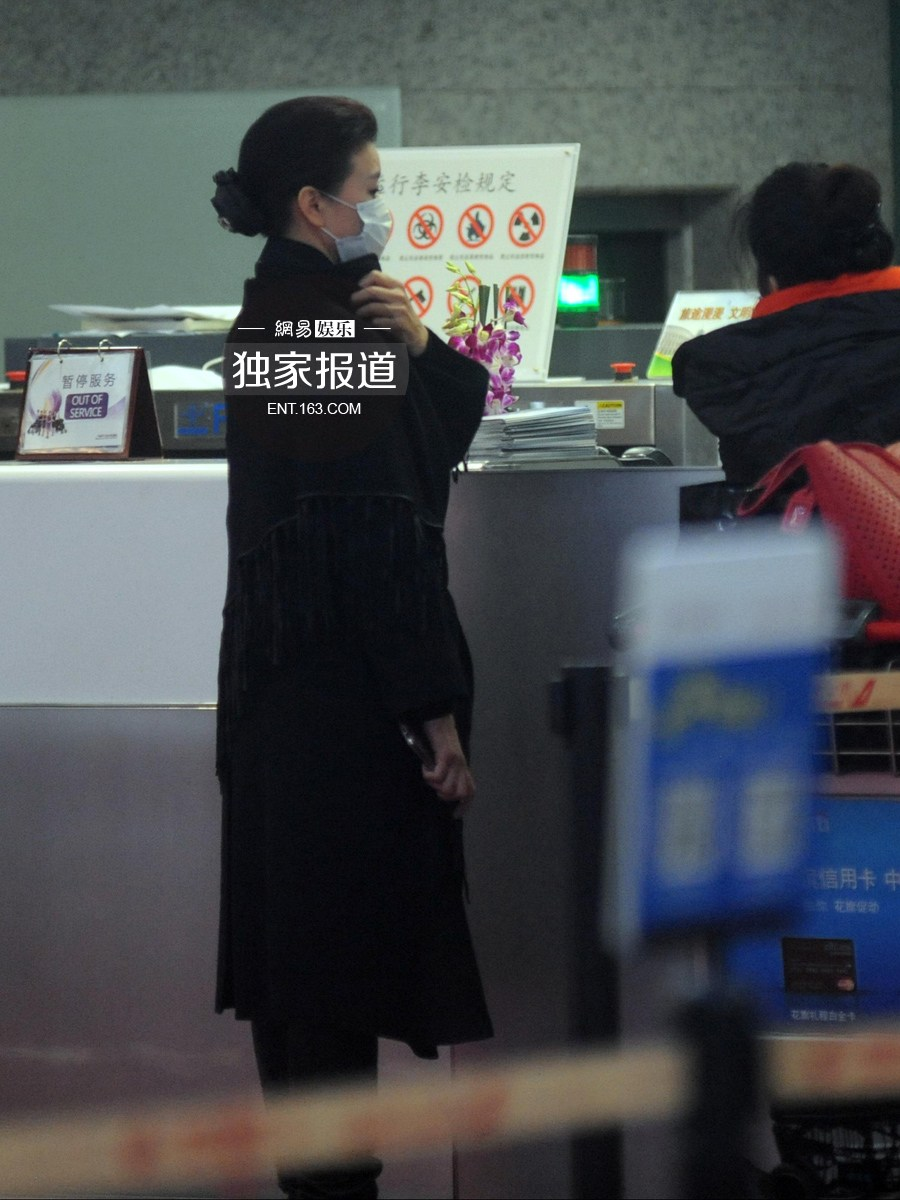face_mask: (324, 135, 387, 264)
